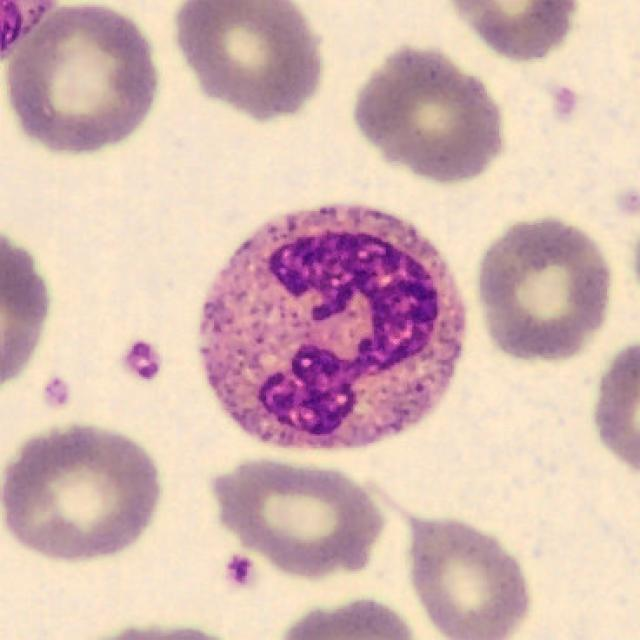Neutrofilo segmentado: (198, 206, 468, 451)
